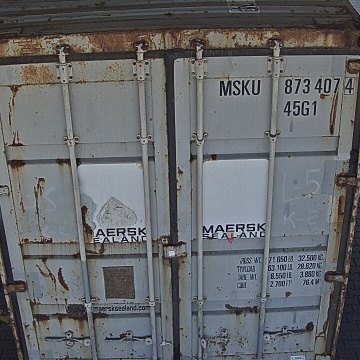serial_id: (219, 78, 353, 96)
